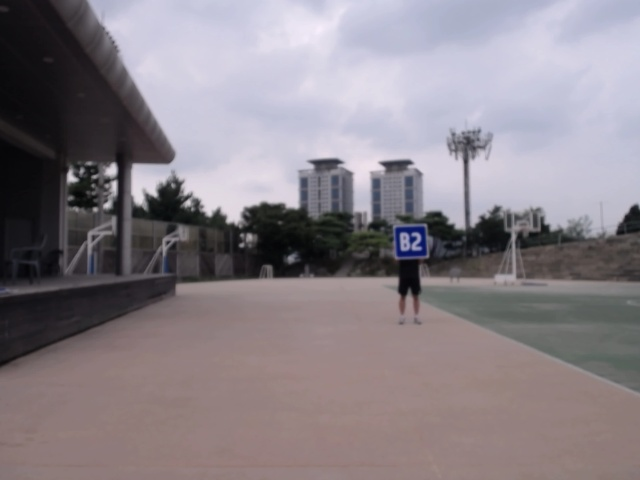delivery_b2: (393, 223, 430, 260)
